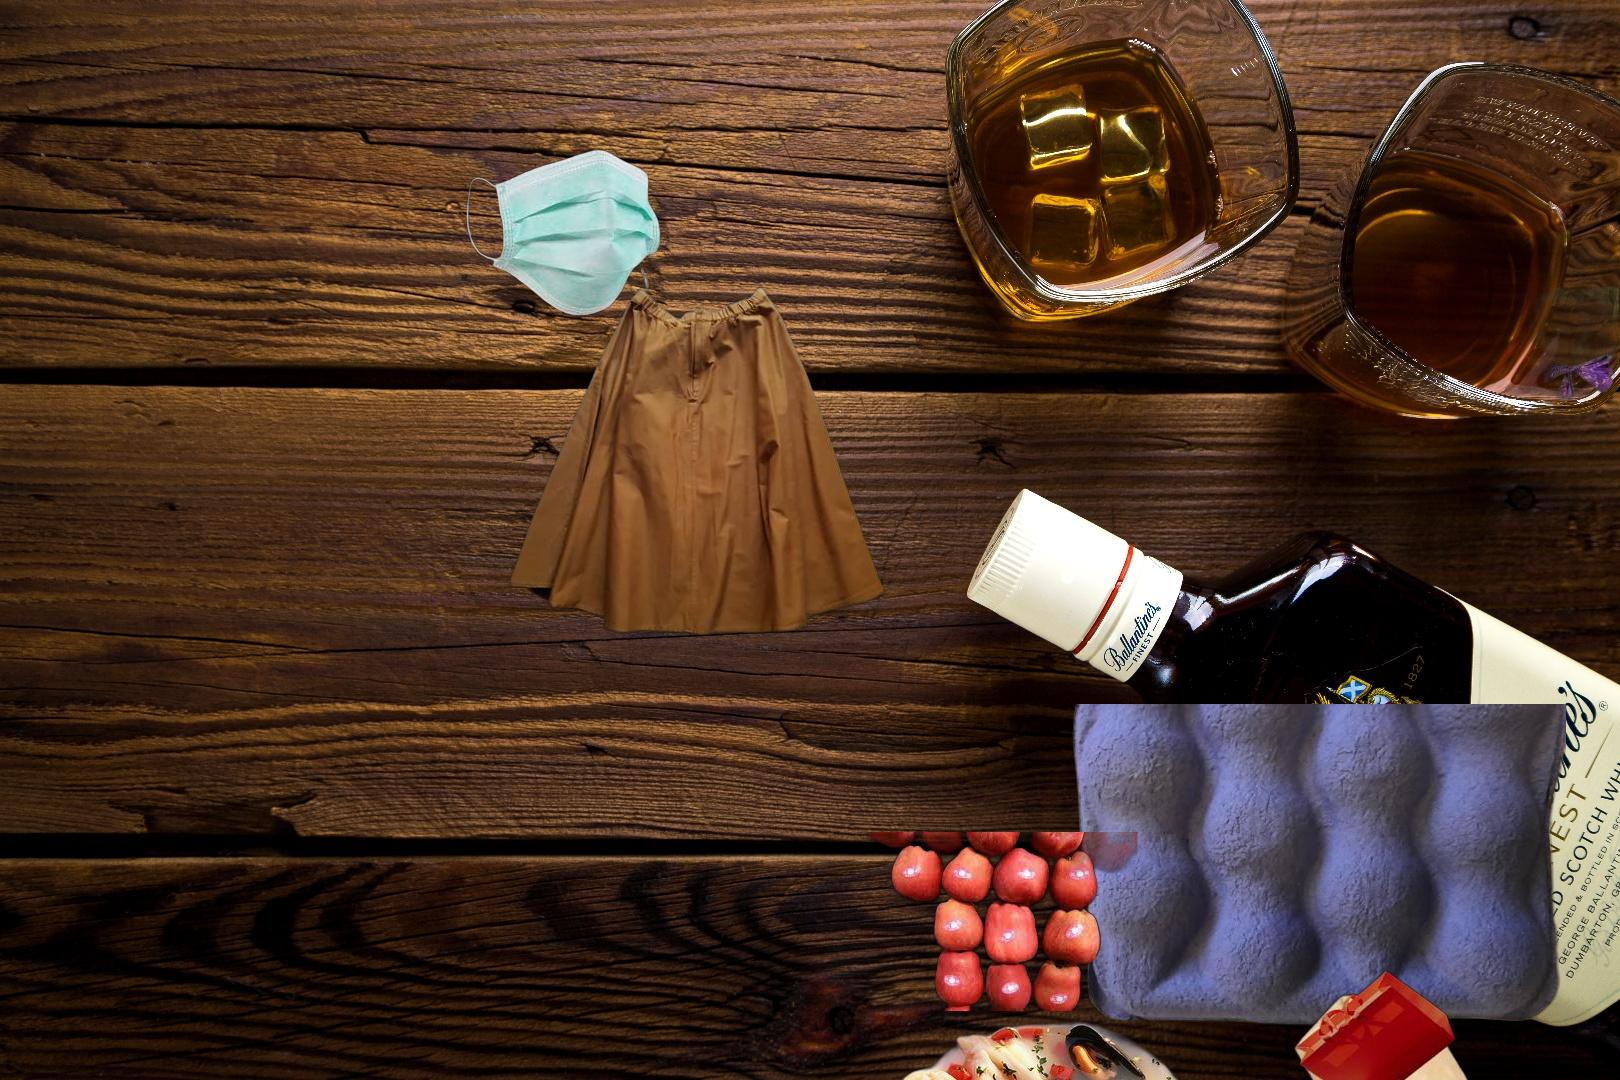biological: (857, 832, 1138, 1011), (894, 1012, 1201, 1080), (1527, 287, 1620, 454)
clothes: (507, 264, 887, 641)
paper: (1068, 704, 1566, 1028)
paper-bag: (1292, 968, 1491, 1080)
trash: (464, 147, 664, 318)
